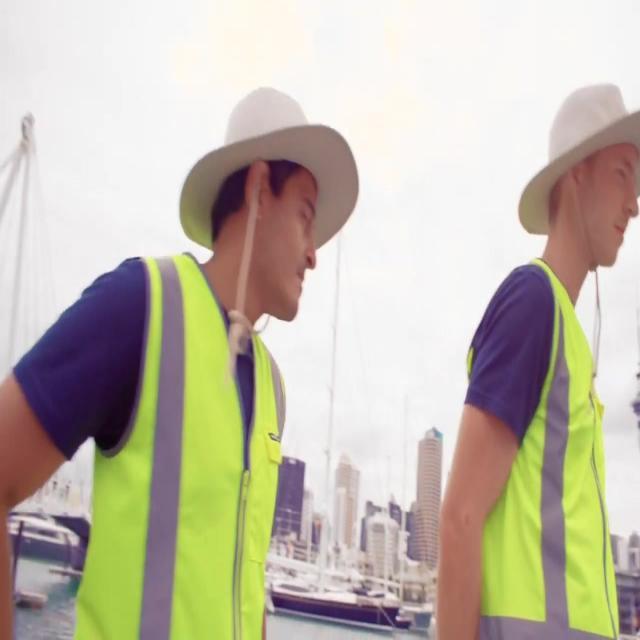Reflective-Jacket: (72, 253, 288, 635), (441, 267, 619, 637)
